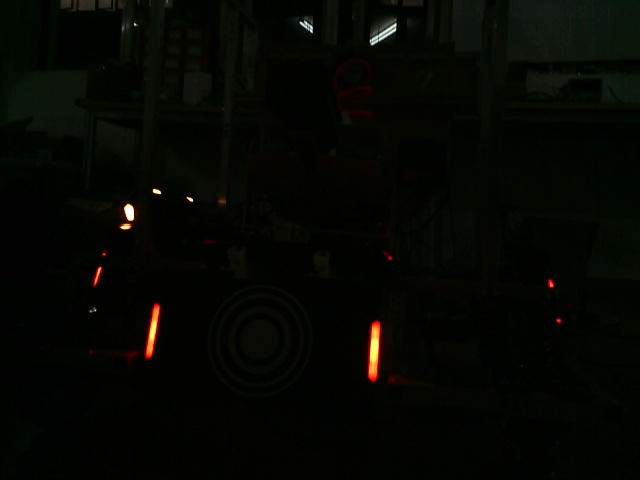lamp: (361, 320, 384, 384), (142, 300, 163, 361)
